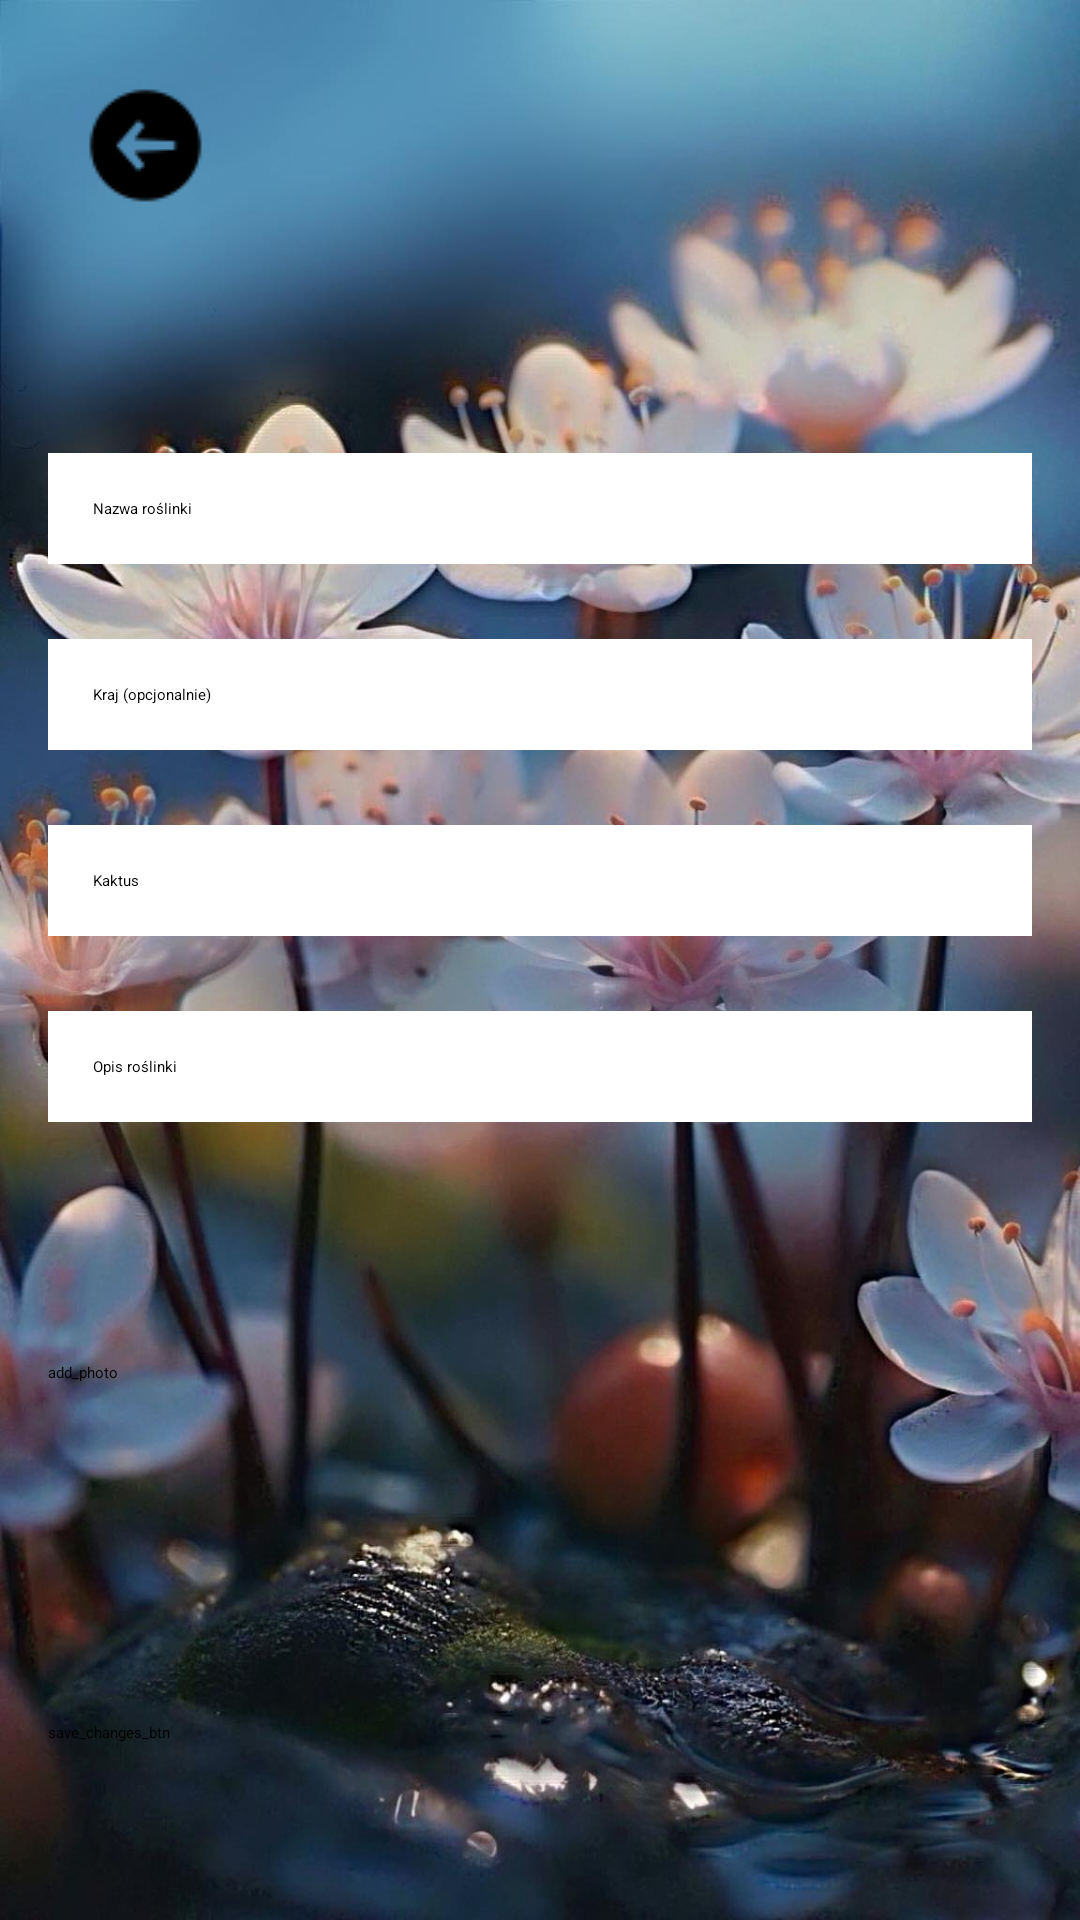

Named icons in this screenshot (1080*1920) and their bounding boxes, (x1=x1, y1=y1, x2=x2, y2=y2):
Powrót do poprzedniej karty!: (x1=89, y1=89, x2=202, y2=202)
